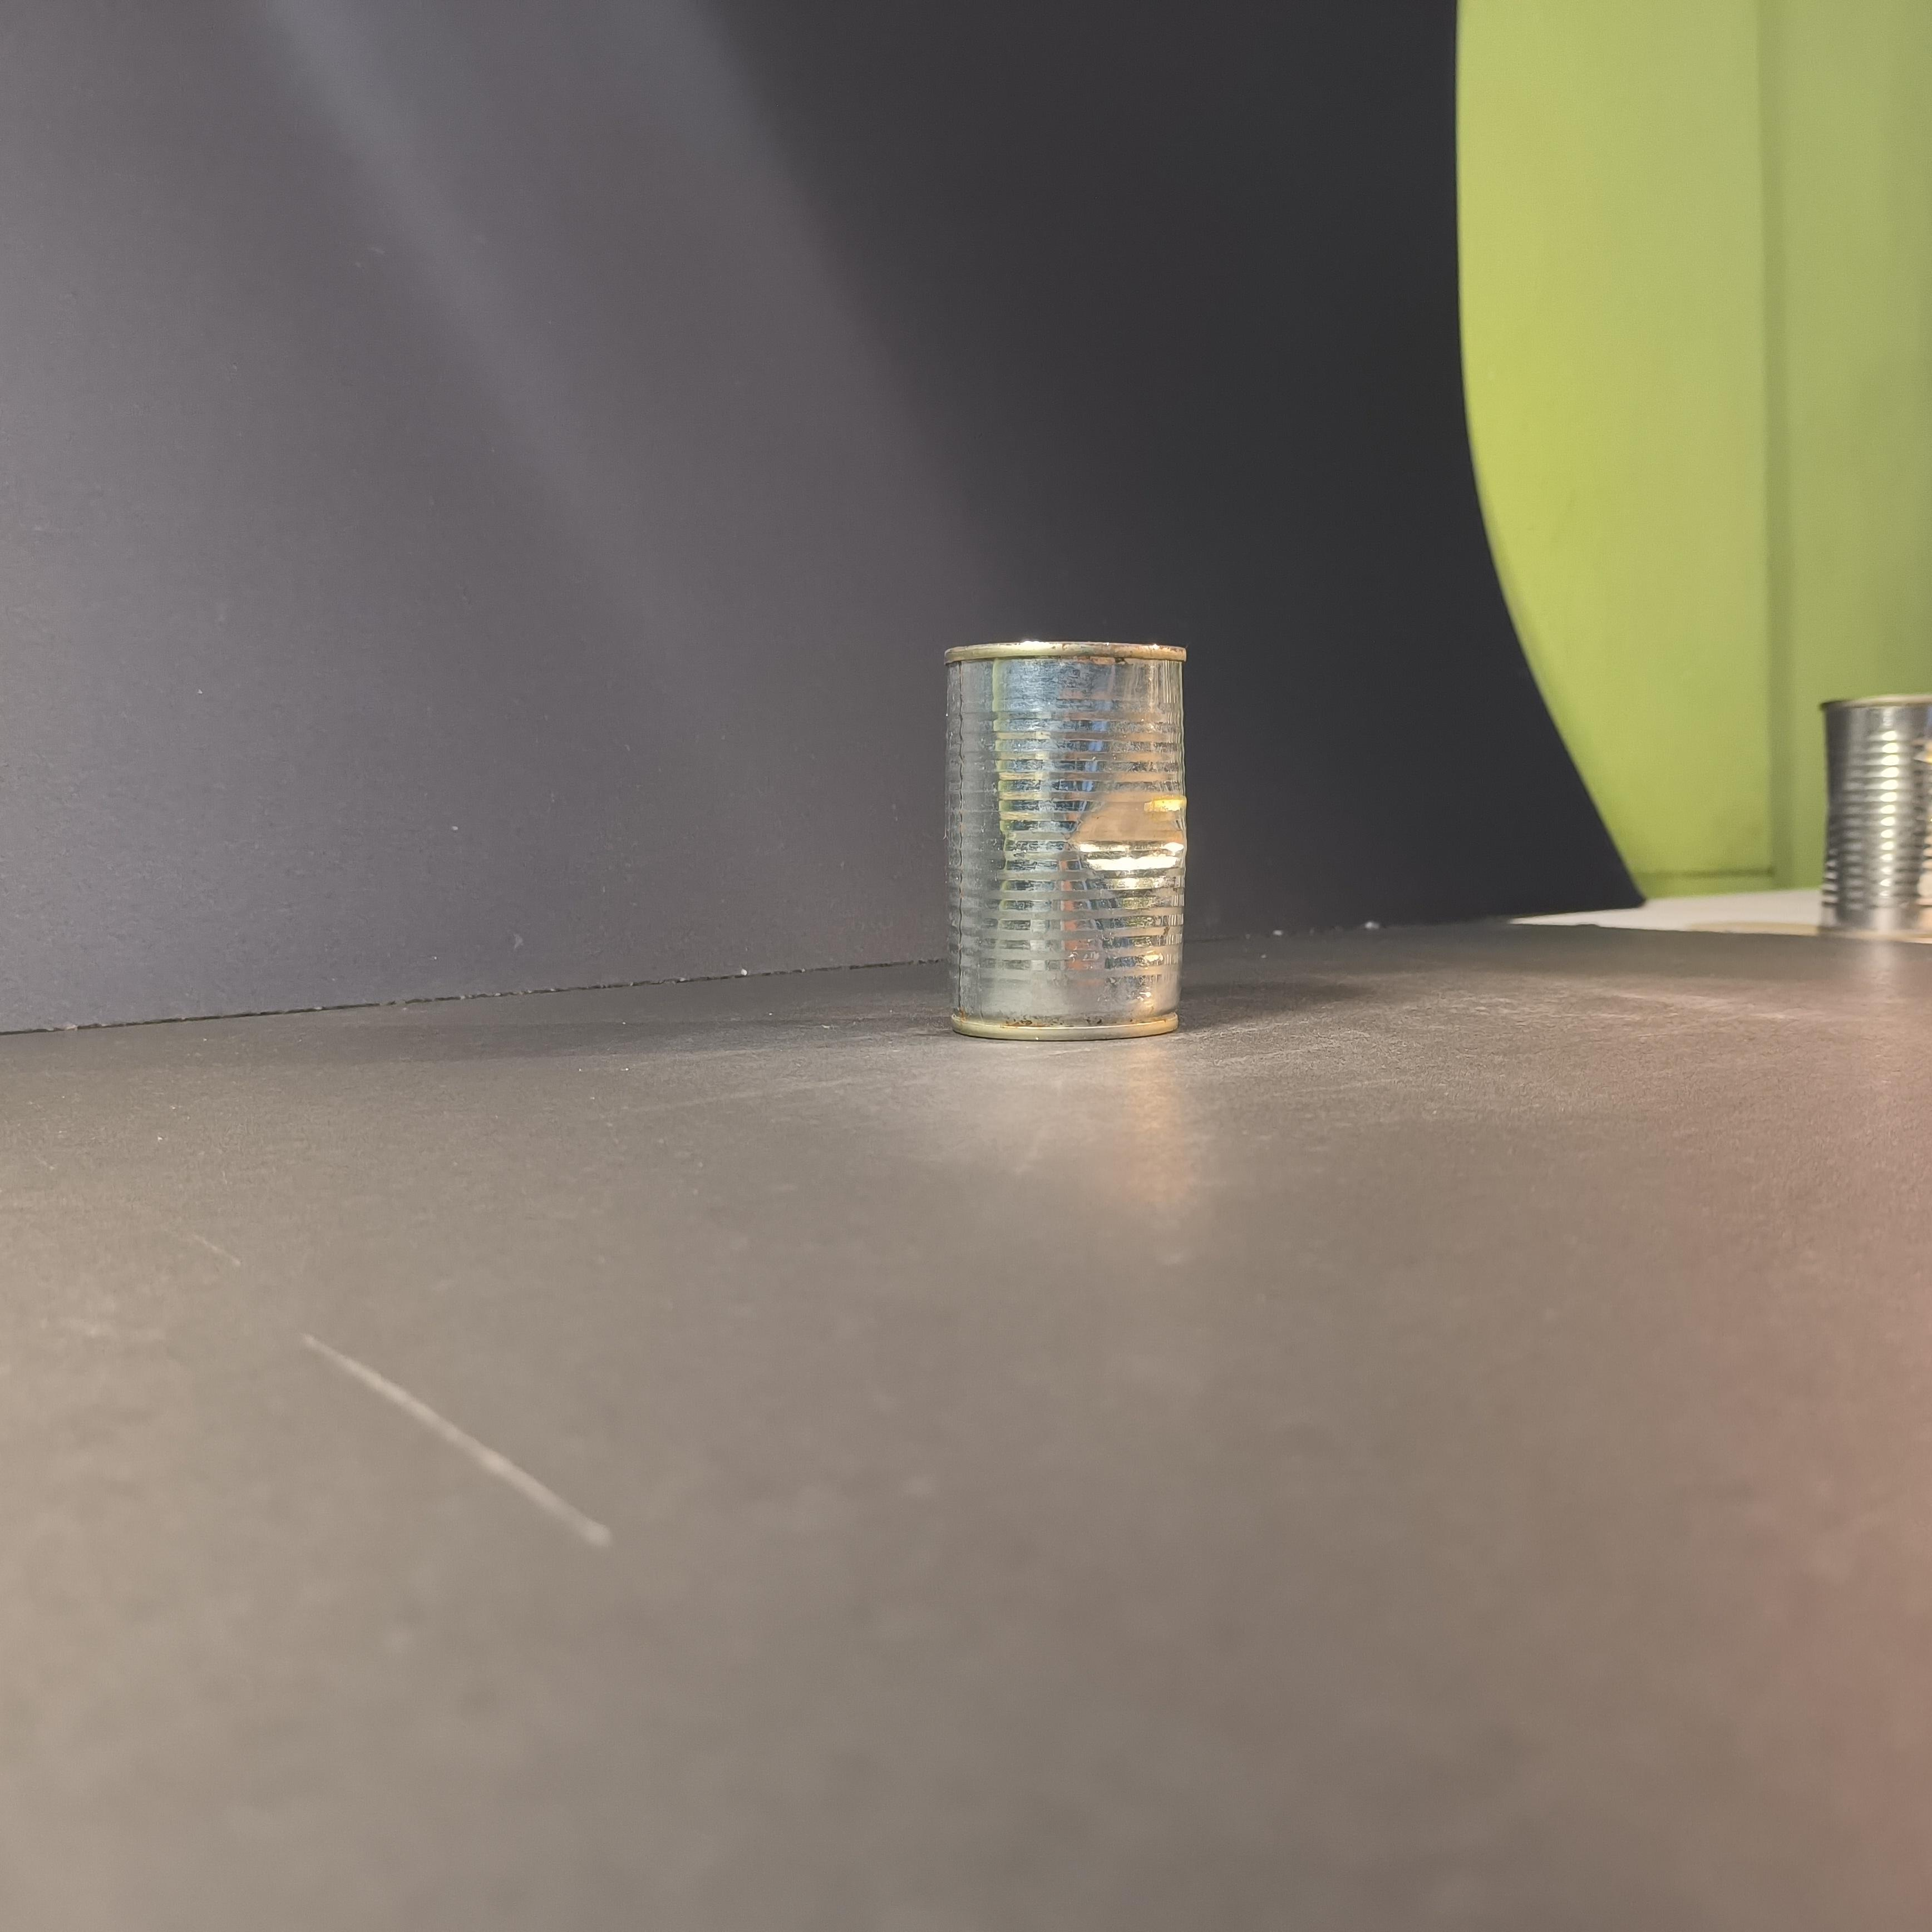Dented: (913, 612, 1202, 1071)
